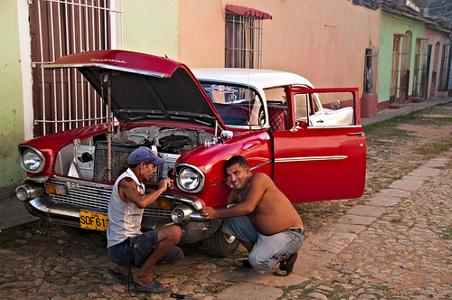person: (100, 146, 188, 295)
